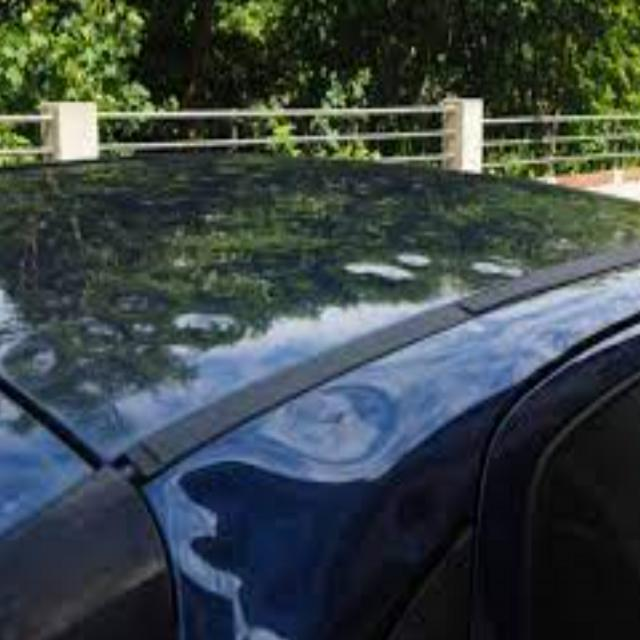dents: (271, 382, 402, 472)
